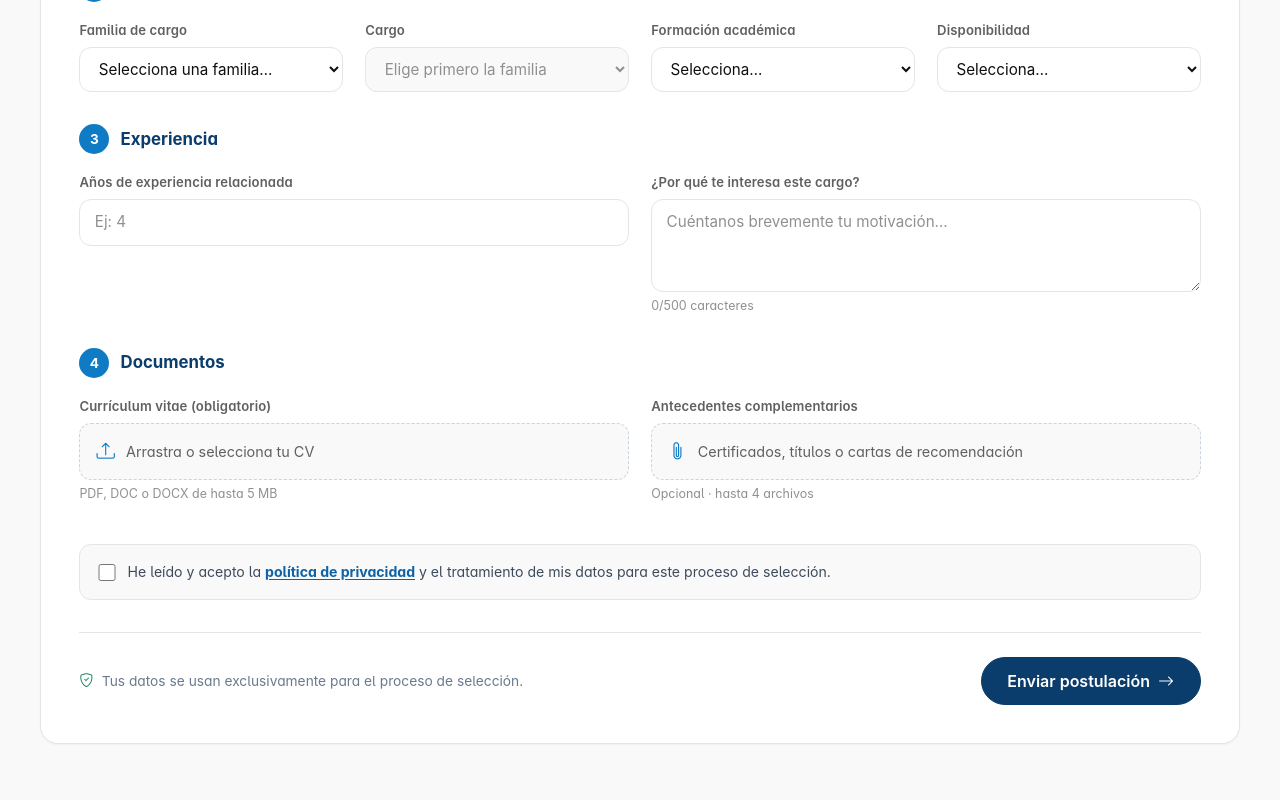
Test: Postulación pública › valida los campos obligatorios antes de enviar
The width and height of the screenshot is (1280, 800).
(page scrolled)
Expected: the dropdown labelled "Familia de cargo" is shown, [79,47,343,92]
Click the button "Enviar postulación".
click(1091, 681)  # box [981,657,1201,705]
(page scrolled)
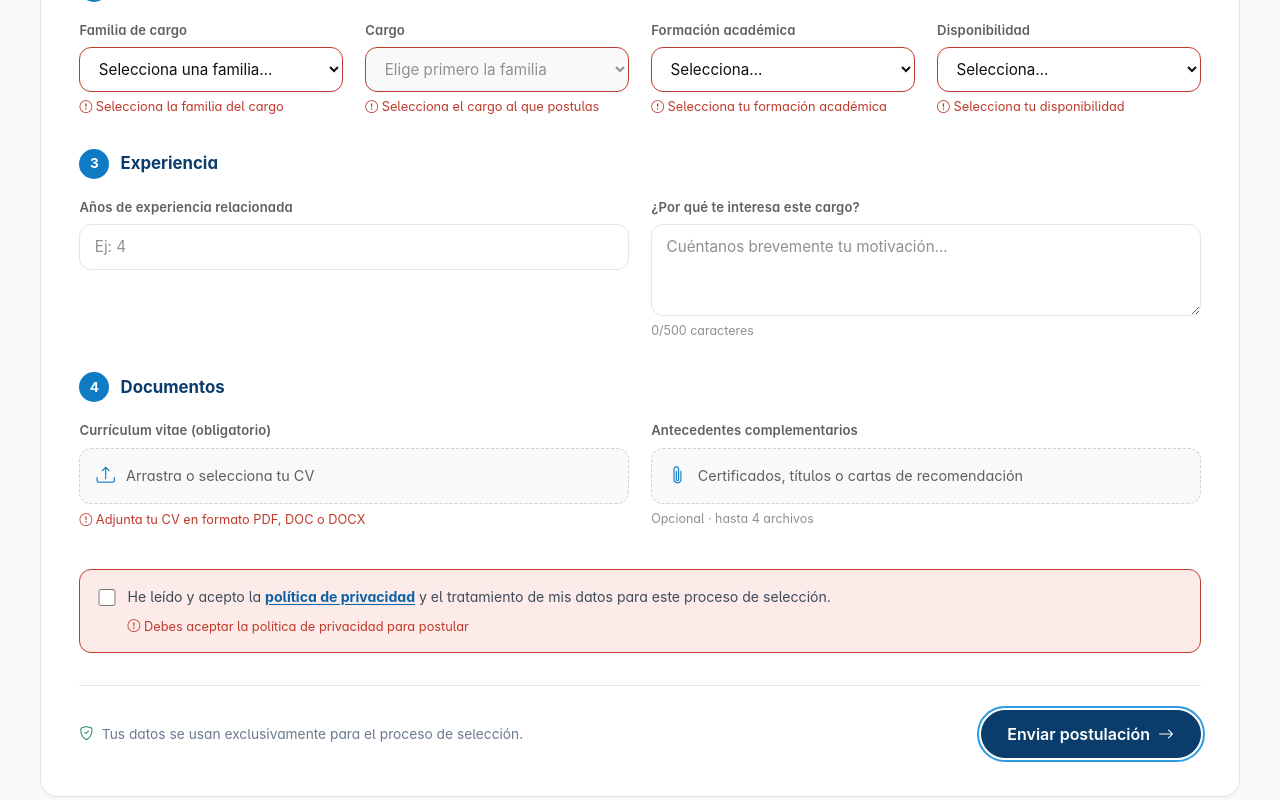
Now the text "Adjunta tu CV en formato PDF, DOC o DOCX" is shown, box [79,512,365,527]
